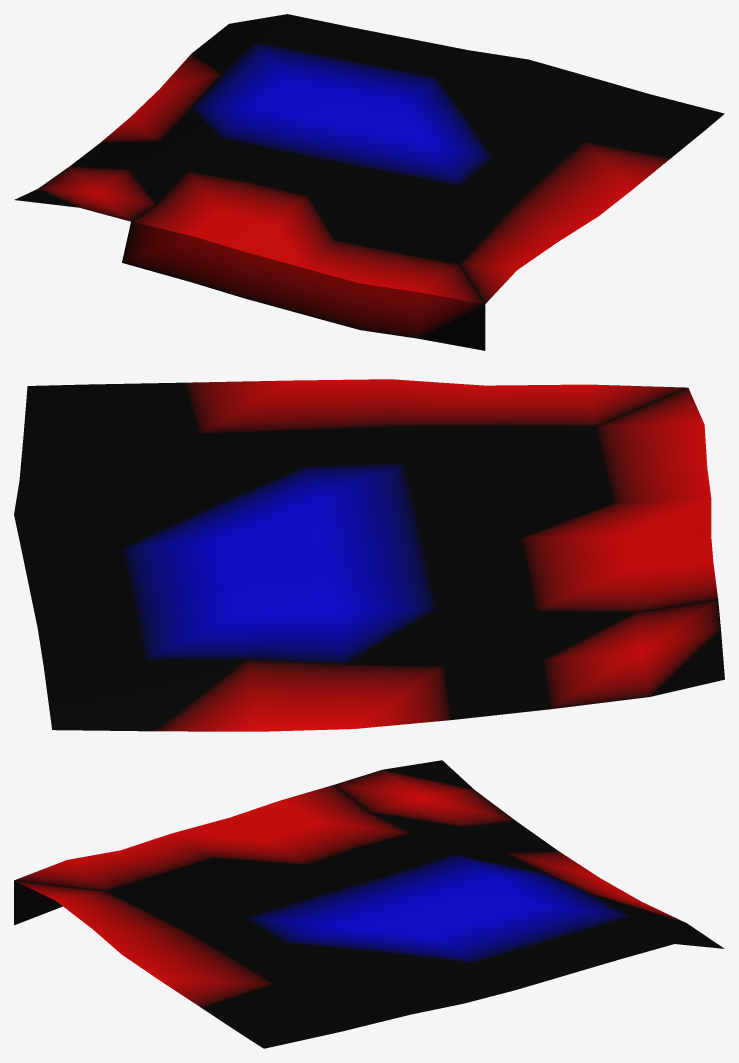
The model's file is Ground_Z2.FBX.
The picture shows the model from 3 angles, top to bottom: view 1: azimuth 30°, elevation 25°; view 2: azimuth 150°, elevation 25°; view 3: azimuth 270°, elevation 25°; orthographic projection. The views are drawn at different scales.
Visible parts, largest first — view 1: Plane001; view 2: Plane001; view 3: Plane001.
Part boxes in pixels (box(x1,y1,x2,y2)): Plane001: box(14, 14, 724, 350); Plane001: box(14, 379, 724, 731); Plane001: box(14, 760, 724, 1048).
Size of the model in its own units: 1681 by 155 by 1733.
